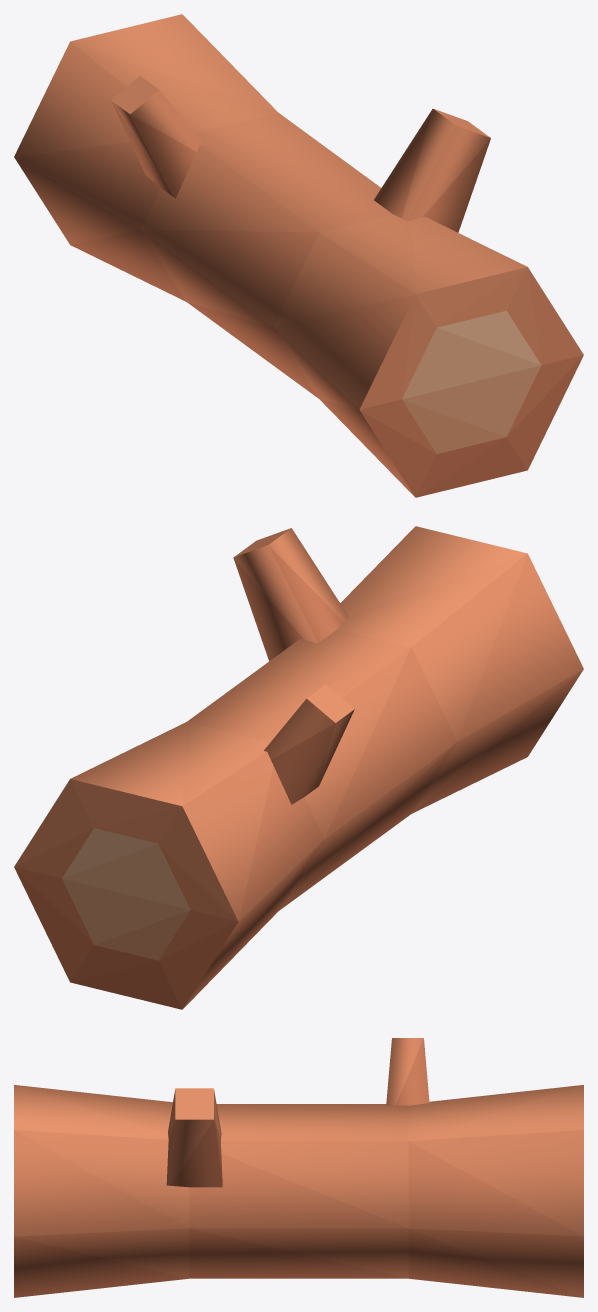
Rendered from tree-log-small.glb.
The picture shows the model from 3 angles, top to bottom: view 1: azimuth 30°, elevation 25°; view 2: azimuth 150°, elevation 25°; view 3: azimuth 270°, elevation 25°; orthographic projection. The views are drawn at different scales.
Visible parts, largest first — view 1: cdf8860, cdb845d, cd7815b, ce48c63, ce78f65, cea9167, cc06e4c, cc77450, cd7966f, ce1a680, cca7652, ccb7753 (+6 smaller); view 2: cdf8860, cd7815b, cdb845d, ce78f65, ce48c63, cea9167, cc06e4c, cc4714e, cc77450, cca7652, cd89971, ce1a680 (+6 smaller); view 3: cdf8860, cd7815b, cc06e4c, cca7652, cdb845d, cea9167, ce78f65, ce48c63, cc77450, cc4714e, cd37d58, ccf7a55.
Boxes of the visible parts, x1,y1,x2,y2 form: cdf8860: (14,41,541,398); cdb845d: (130,90,583,409); cd7815b: (14,142,319,326); ce48c63: (195,112,527,327); ce78f65: (71,42,527,327); cea9167: (70,14,527,293); cc06e4c: (70,230,583,497); cc77450: (14,114,490,244); cd7966f: (402,365,541,436); ce1a680: (402,328,540,399); cca7652: (141,230,358,409); ccb7753: (359,355,583,453); cdf8860: (14,528,527,921); cd7815b: (14,647,457,921); cdb845d: (233,545,583,759); ce78f65: (70,528,526,827); ce48c63: (94,629,410,843); cea9167: (70,526,527,805); cc06e4c: (184,669,583,1007); cc4714e: (14,724,335,1009); cc77450: (183,558,335,1008); cca7652: (279,670,582,910); cd89971: (62,879,190,944); ce1a680: (62,844,190,909); cdf8860: (14,1038,583,1236); cd7815b: (189,1141,583,1236); cc06e4c: (14,1228,583,1297); cca7652: (15,1228,408,1278); cdb845d: (14,1090,221,1236); cea9167: (14,1085,583,1140); ce78f65: (15,1085,582,1140); ce48c63: (216,1104,408,1140); cc77450: (166,1120,583,1297); cc4714e: (171,1120,222,1187); cd37d58: (166,1119,213,1185); ccf7a55: (395,1038,429,1105).
Bounding box in the file's own units: 0.2495 × 0.2771 × 0.65.
